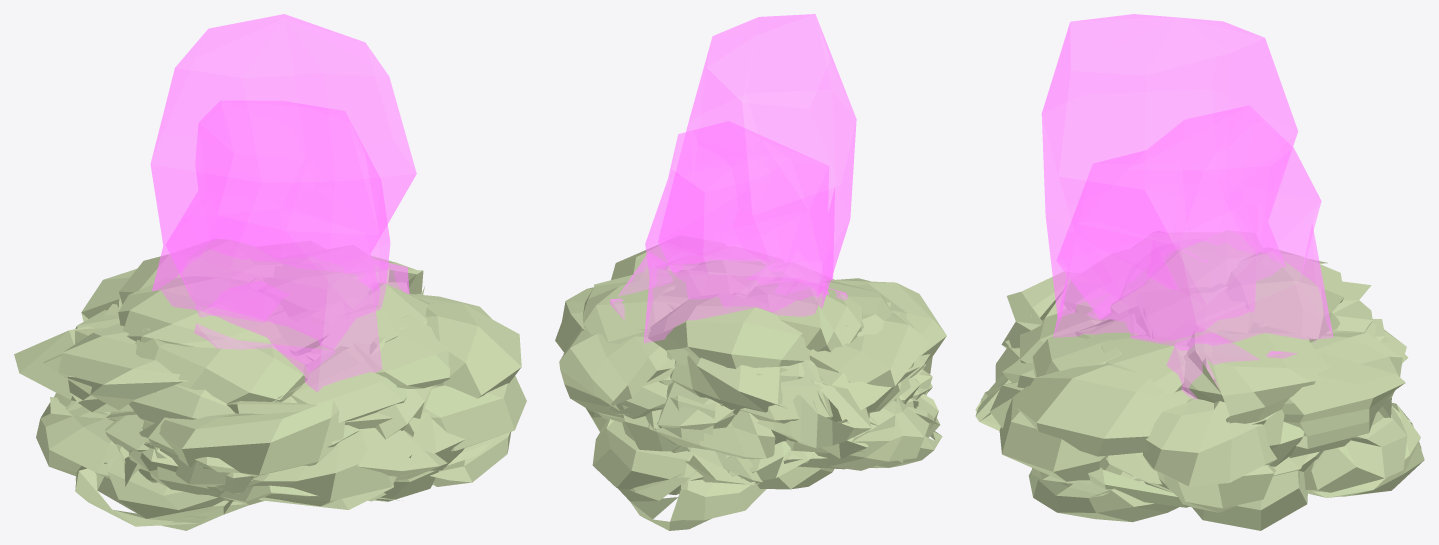
The model's file is XRYSTAL36.gltf.
3 renders of one model, left to right at view 1: azimuth 30°, elevation 25°; view 2: azimuth 150°, elevation 25°; view 3: azimuth 270°, elevation 25°, orthographic. The views are drawn at different scales.
Visible parts, largest first — view 1: Cube.001, Circle.001; view 2: Cube.001, Circle.001; view 3: Cube.001, Circle.001.
Part boxes in pixels (x1,y1,x2,y2): Cube.001: (14,239,526,530); Circle.001: (150,14,416,391); Cube.001: (555,244,946,530); Circle.001: (610,14,856,342); Cube.001: (975,231,1424,530); Circle.001: (1041,14,1333,398).
Size of the model in its own units: 2.79 by 2.97 by 2.59.
